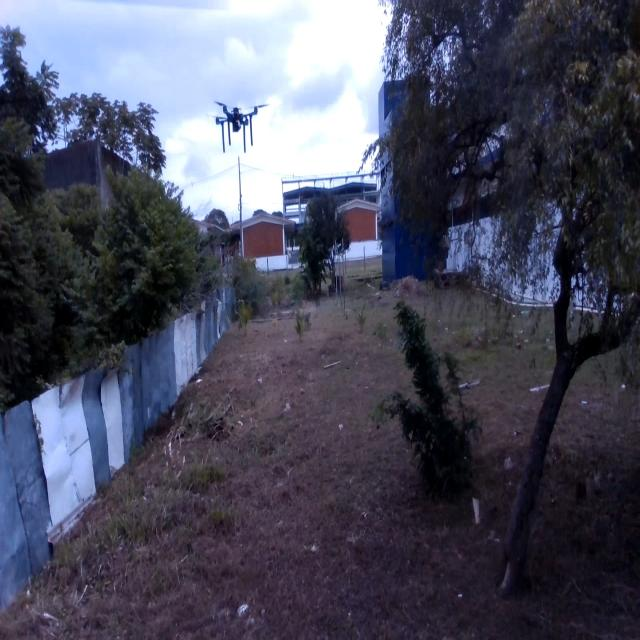-uav-: (202, 92, 272, 161)
